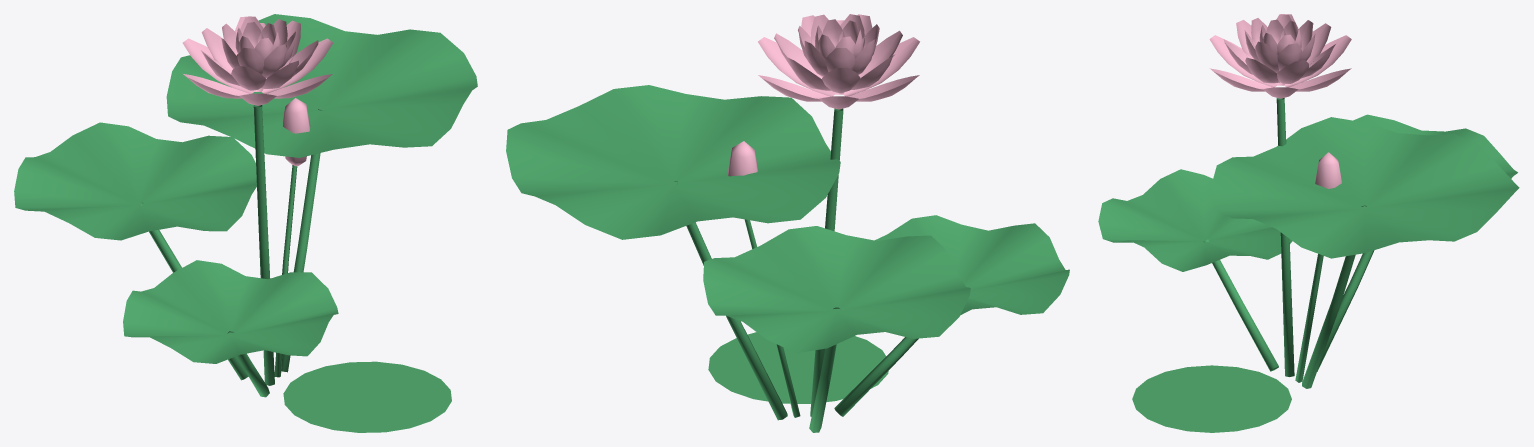
The model's file is aquatic_sacred_lotus.glb.
The picture shows the model from 3 angles, left to right: view 1: azimuth 30°, elevation 25°; view 2: azimuth 150°, elevation 25°; view 3: azimuth 270°, elevation 25°; orthographic projection. The views are drawn at different scales.
Visible parts, largest first — view 1: Flora_Sacred_Lotus; view 2: Flora_Sacred_Lotus; view 3: Flora_Sacred_Lotus.
Boxes of the visible parts, <box> form: Flora_Sacred_Lotus: <box>14,14,477,432</box>; Flora_Sacred_Lotus: <box>506,14,1069,432</box>; Flora_Sacred_Lotus: <box>1098,14,1519,432</box>.
Bounding box in the file's own units: 2.02 × 1.66 × 1.84.
